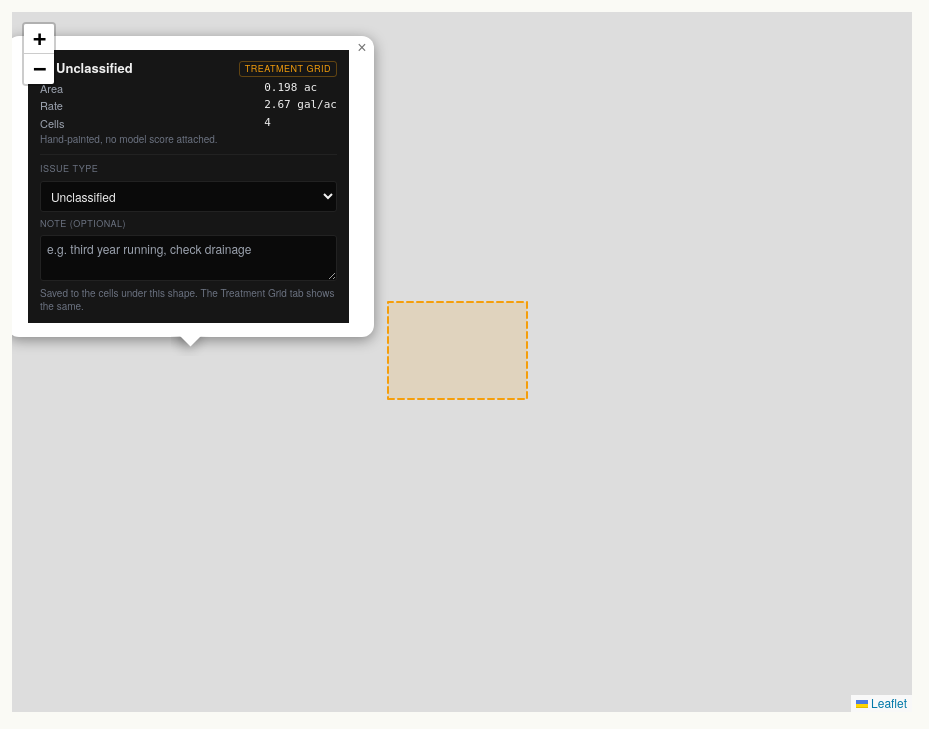
it: what the controls do › keeps an edit on screen when the popup is reopened
Select "Weed pressure" in the dropdown at (188, 196), box [40,181,337,212]
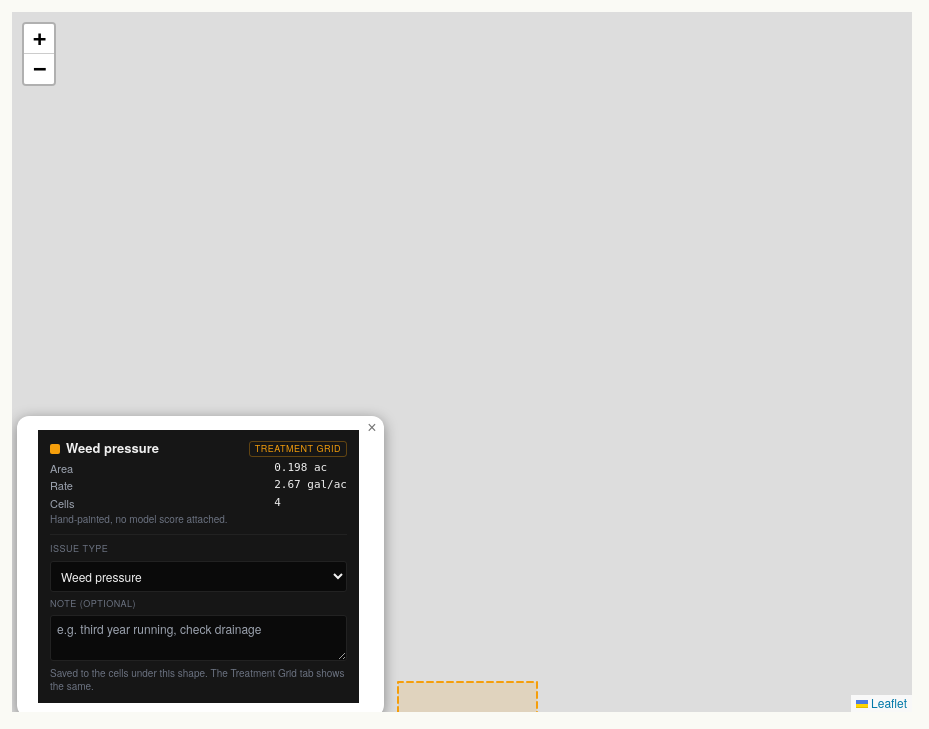
Expected: the dropdown shows "Weed pressure", [50,561,347,592]
